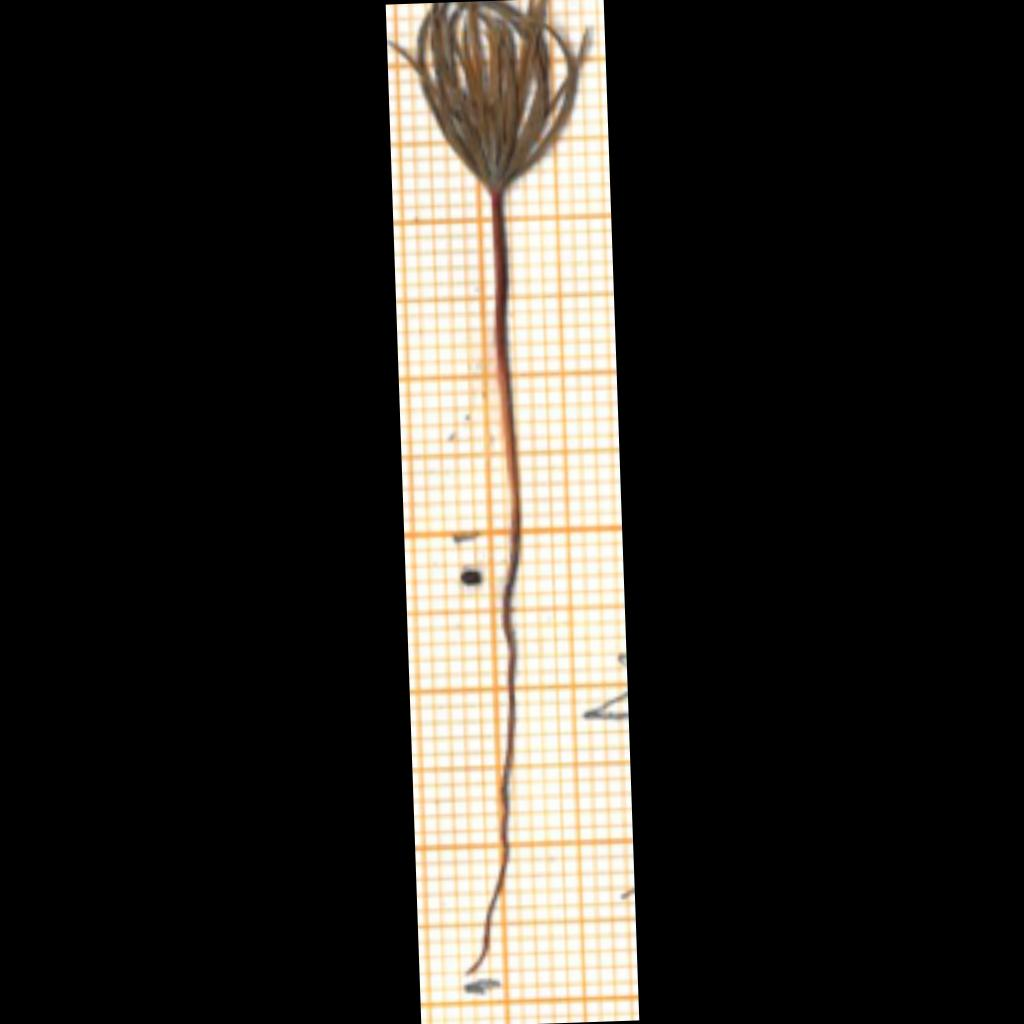flowerPinus: (390, 0, 586, 191)
rootPinus: (469, 526, 520, 973)
stemPinus: (492, 192, 519, 536)
